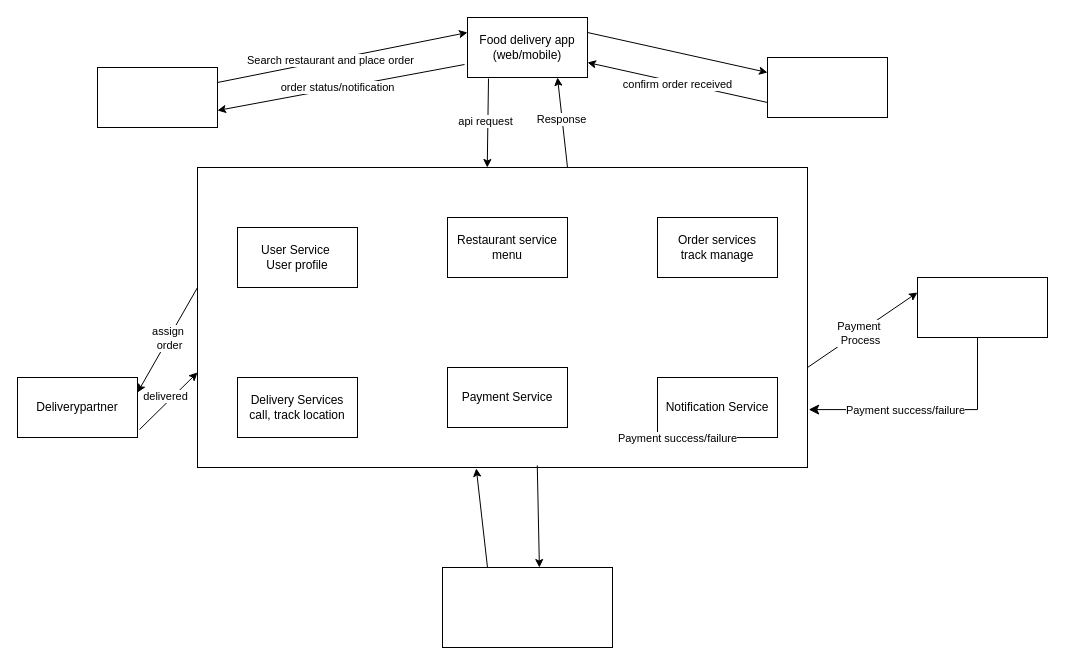
Image size: 1065x665. Some labels were removed from this diagram. Each missing label, with the centre of its shape:
"Customer" goes at (157,97).
"Database" goes at (527,607).
"Payment Provider (UPI/card/wallet)" goes at (982,307).
"Restaurant partner" goes at (827,87).
